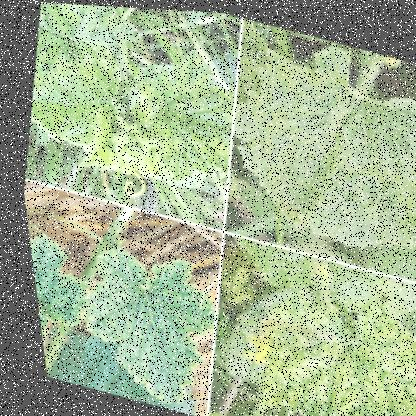CassavaMosaicDisease: (272, 85, 415, 232), (22, 1, 149, 114), (289, 316, 415, 415), (124, 56, 225, 176), (22, 224, 99, 377), (94, 258, 189, 375)
